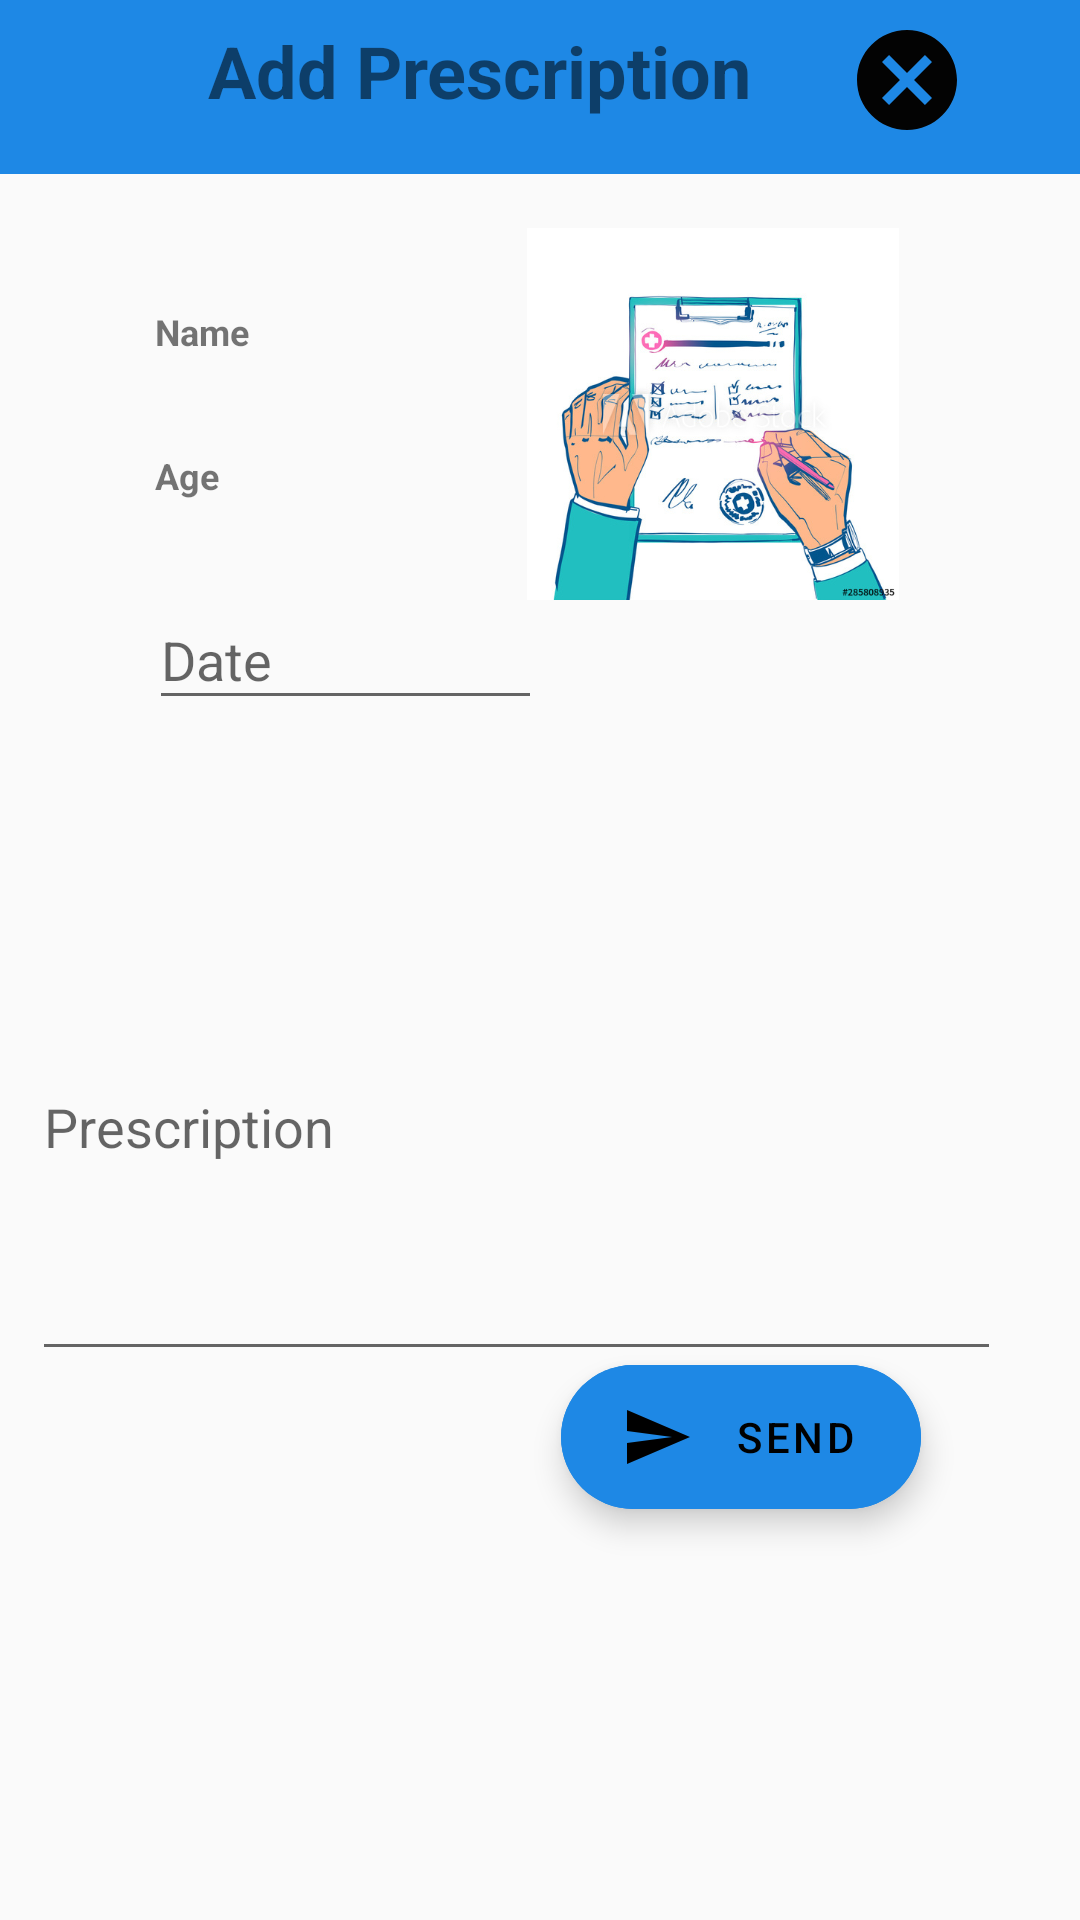

Screen size 1080x1920. Icon name, then its box in pixels as (x1, y1, x2, y2):
cancel: (857, 30, 957, 130)
